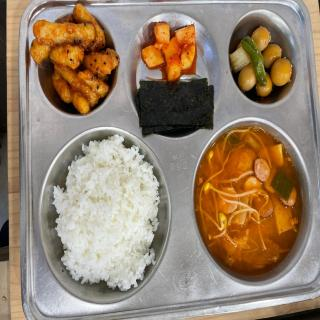Nasi: (51, 135, 160, 293)
